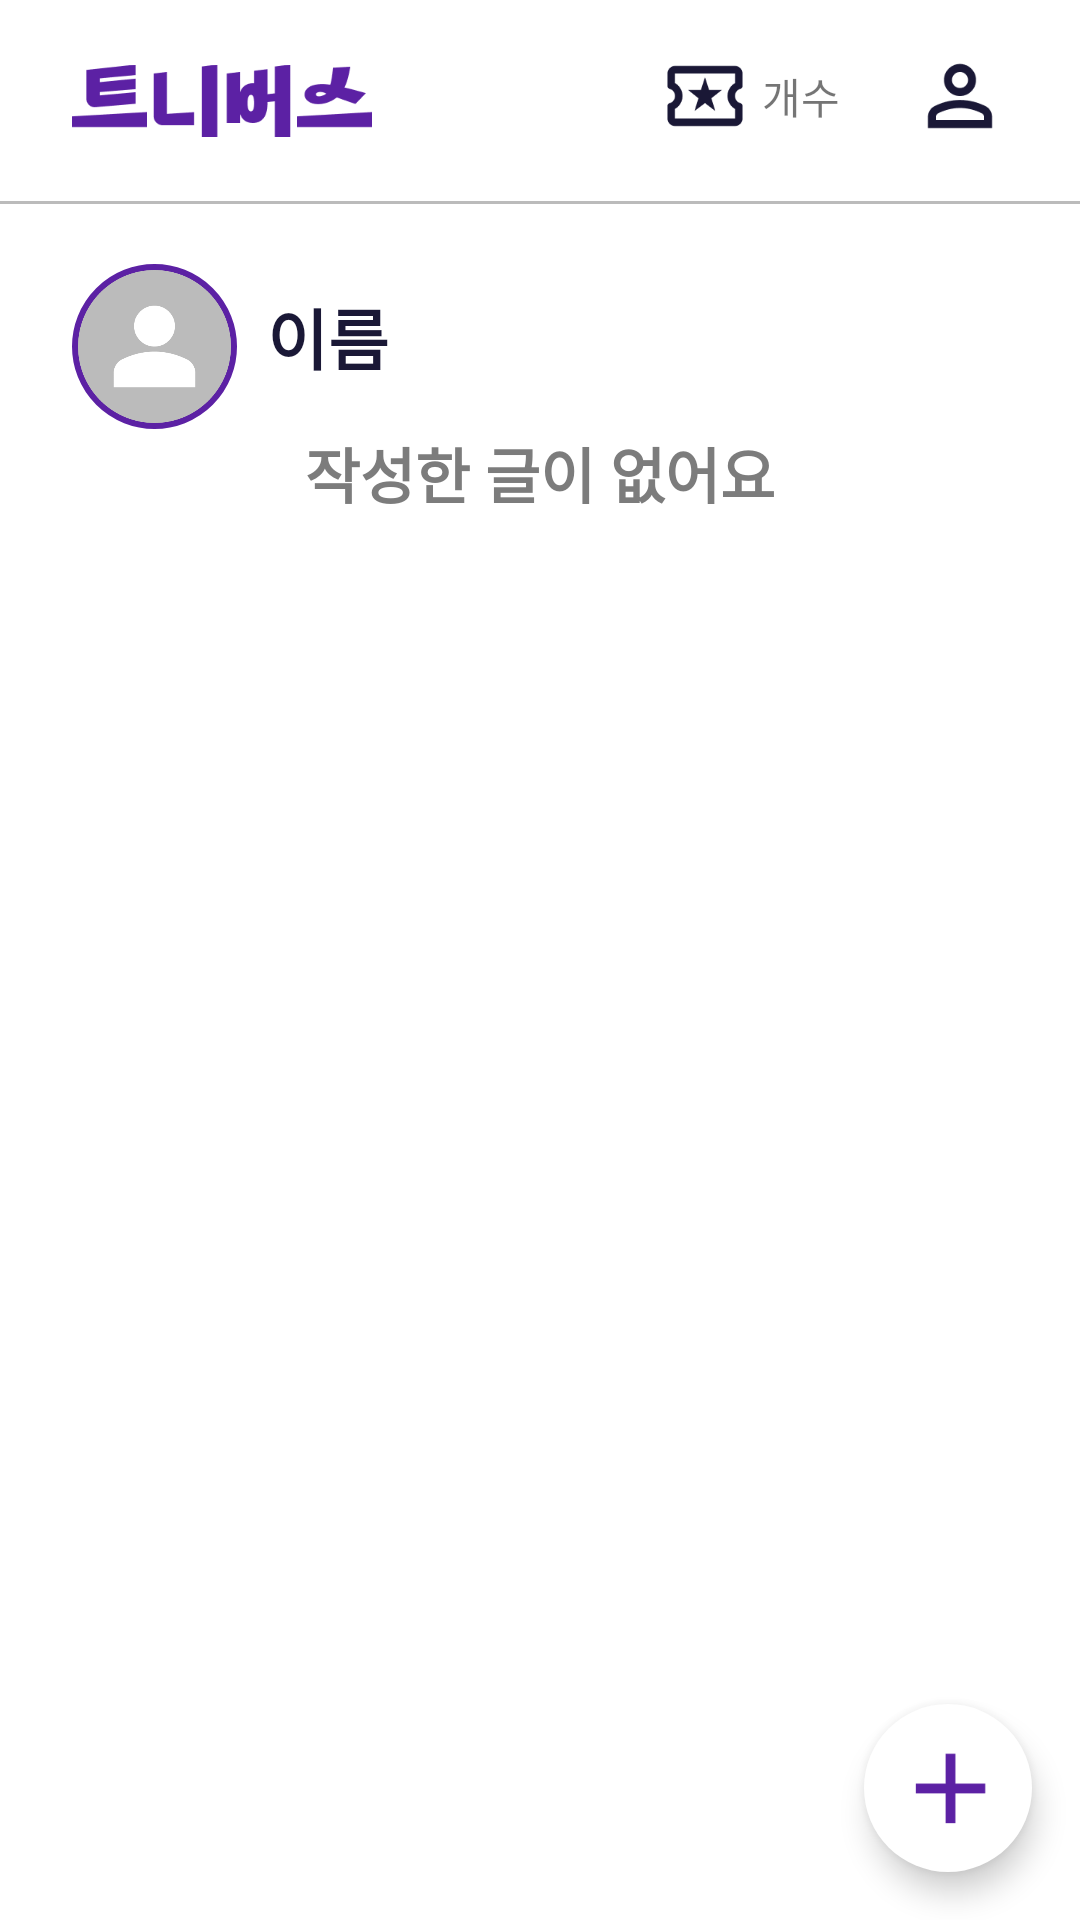

Locate icon controls on the screen. Image size 1080 x 1920, boxes as (x1, y1, x2, y2).
buy vote: (667, 65, 743, 127)
person: (927, 63, 993, 129)
plus: (869, 1753, 986, 1824)
profile: (72, 264, 237, 429)
